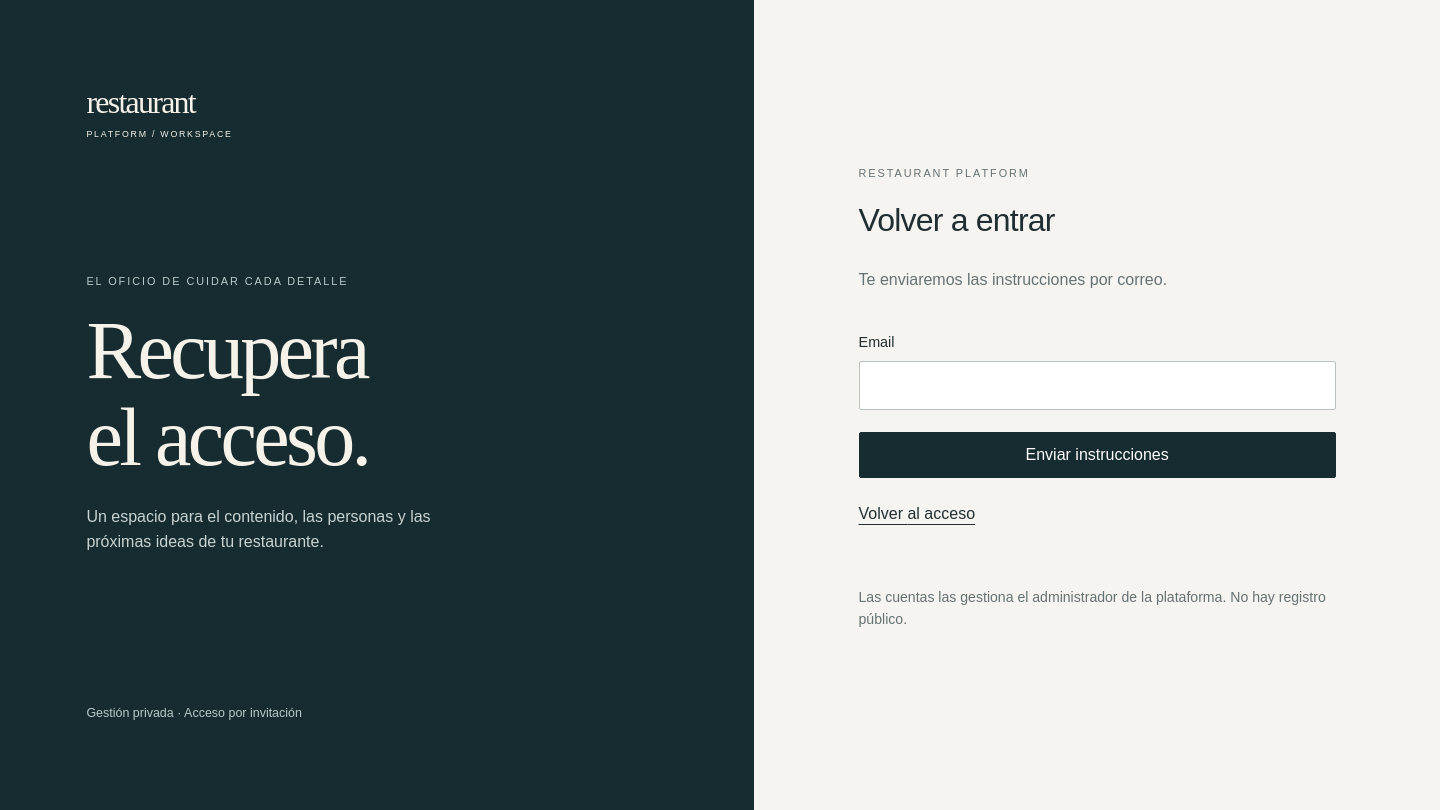
Auth real en servicios; interfaz con mocks › solicita recuperación con destino autorizado del mismo origen
In the field labelled "Email": (1097, 385) [858, 361, 1336, 410], type "owner@example.test"
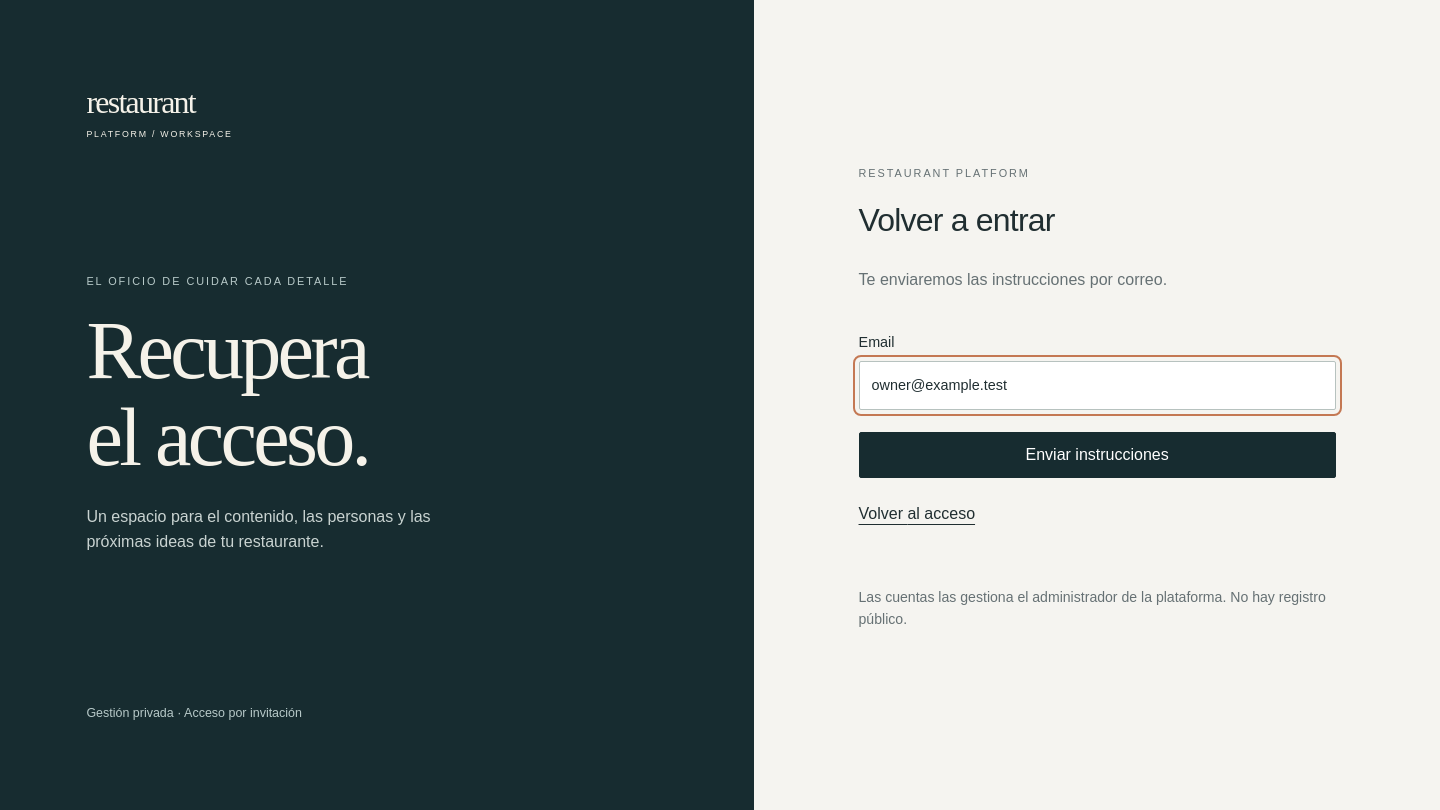
Click the button "Enviar instrucciones": (1097, 455) [858, 432, 1336, 478]
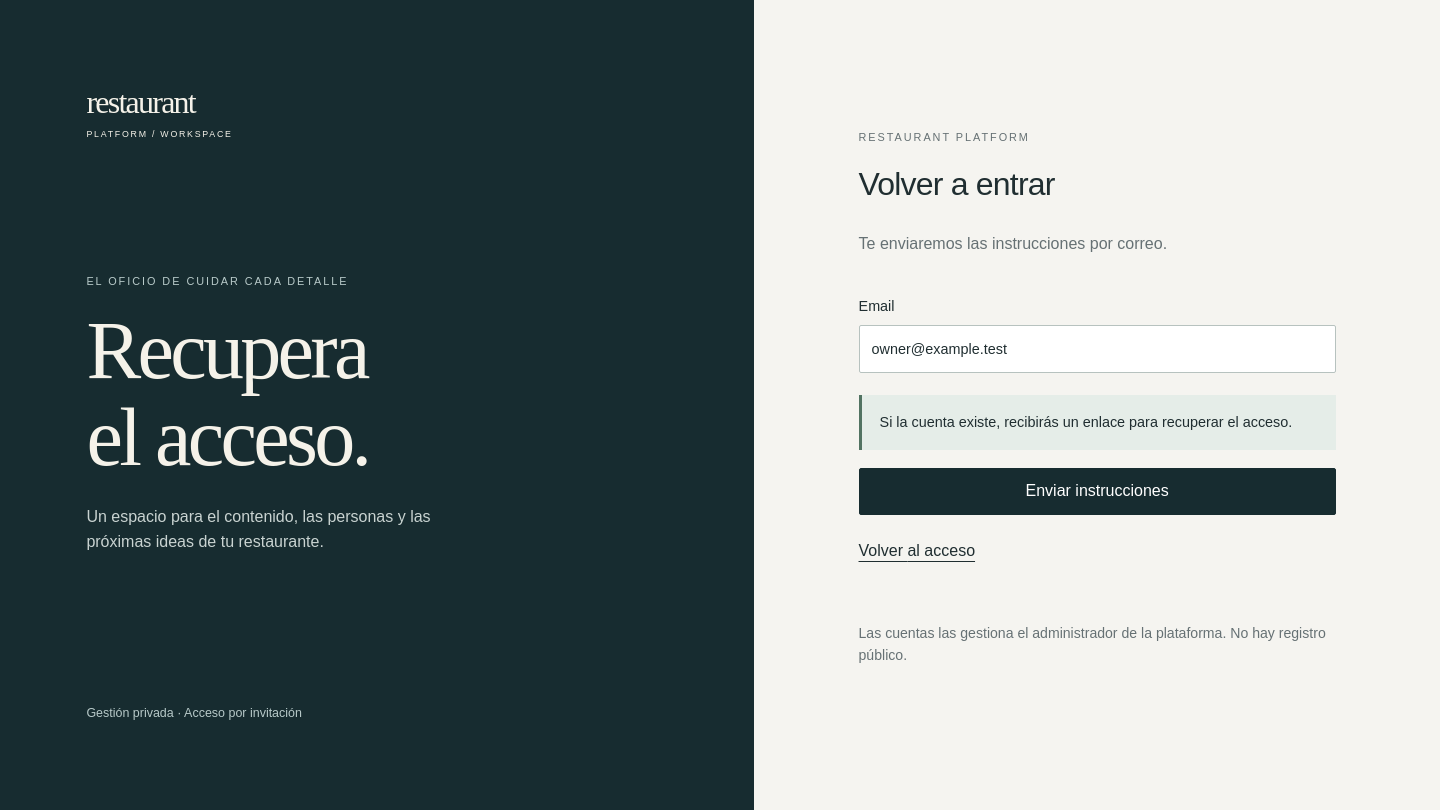
expect the message shows "Si la cuenta existe": met, box [880, 414, 1292, 430]
